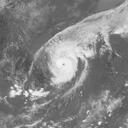cyclone: (46, 46, 83, 86)
